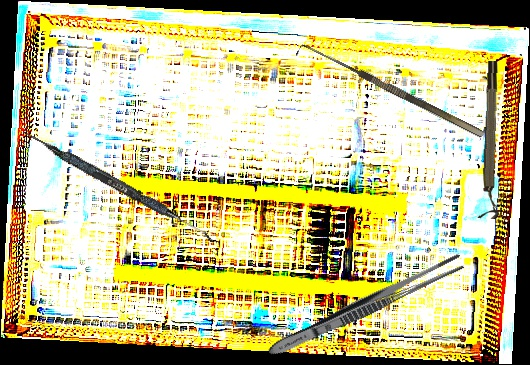Dressing Forceps: (264, 249, 467, 363)
Fixation Ring: (476, 60, 508, 220)
Hook Surgical: (295, 39, 485, 148)
Spatula Surgical: (18, 128, 219, 243)
